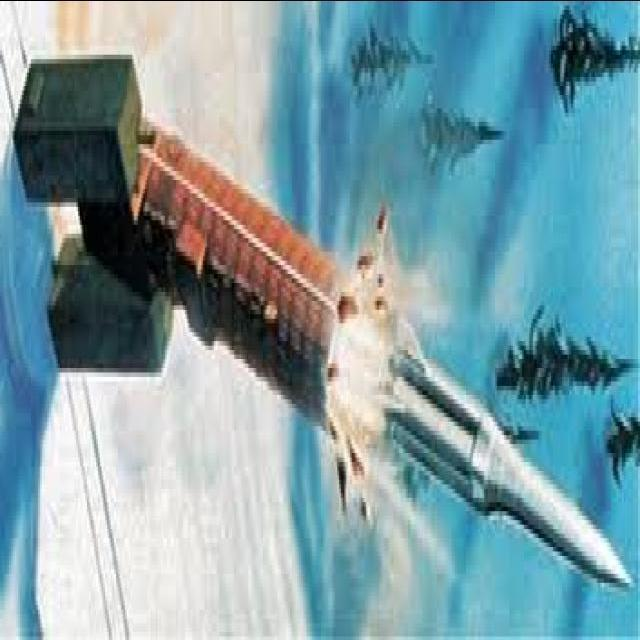missile: (356, 288, 632, 582)
